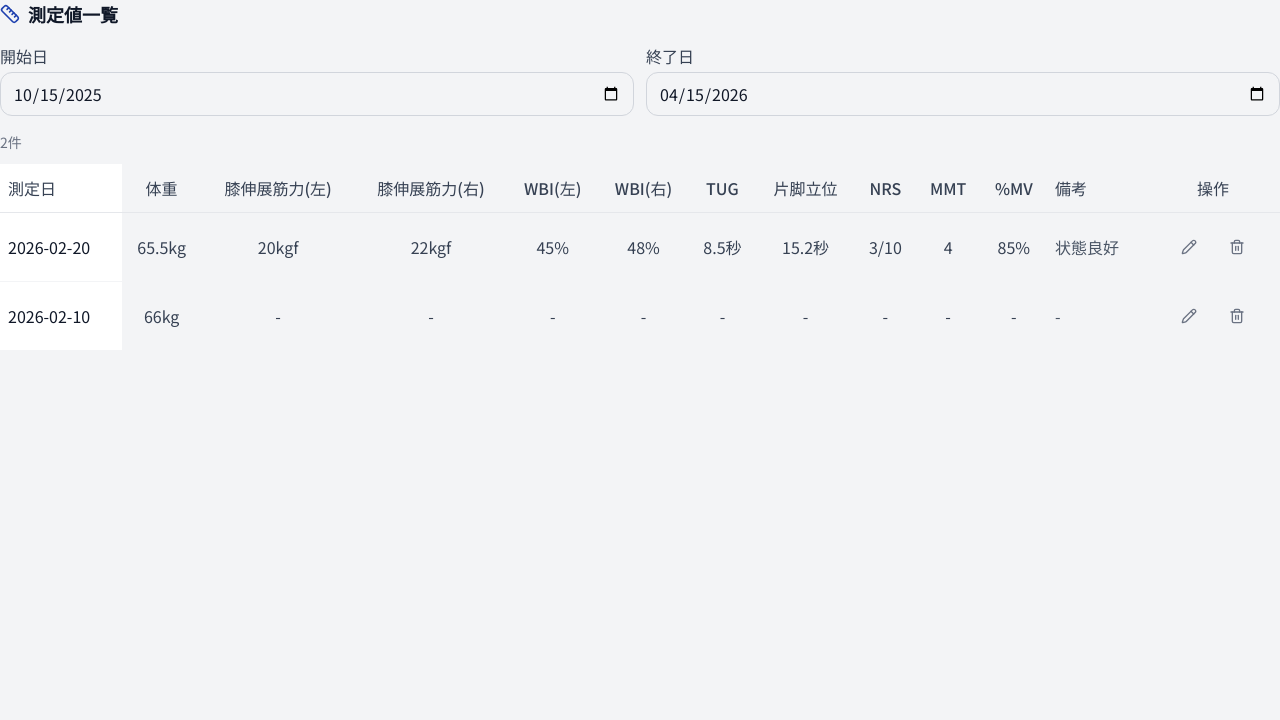
Test: PatientMeasurementsTab › opens edit dialog when edit button is clicked
Click the button named "2026-02-20の測定値を編集" at [1189, 247], box [1167,225,1211,269]
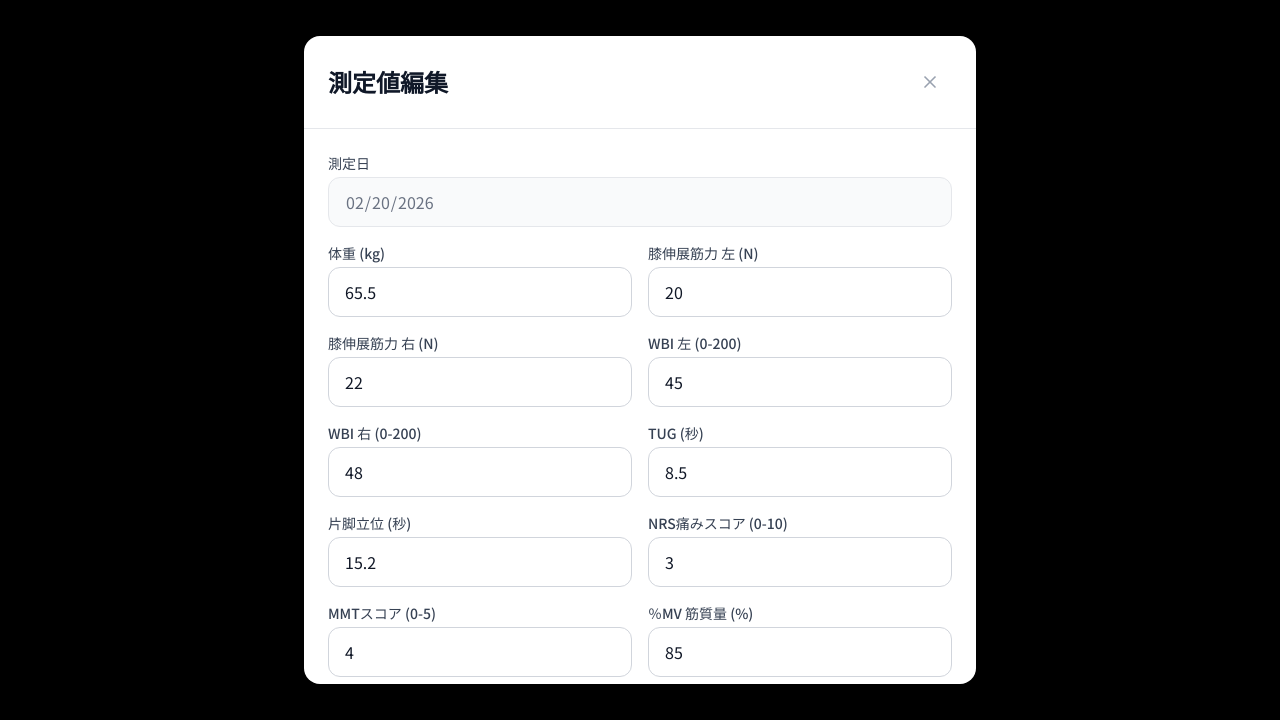
Expected: the heading "測定値編集" is shown, [328,66,448,98]
